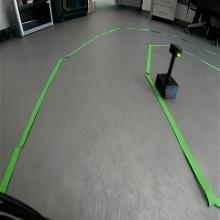green: (170, 42, 183, 59)
